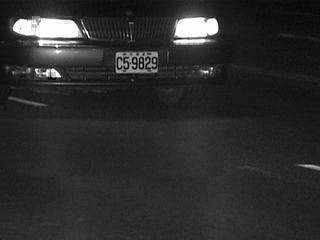plate: (114, 50, 160, 75)
